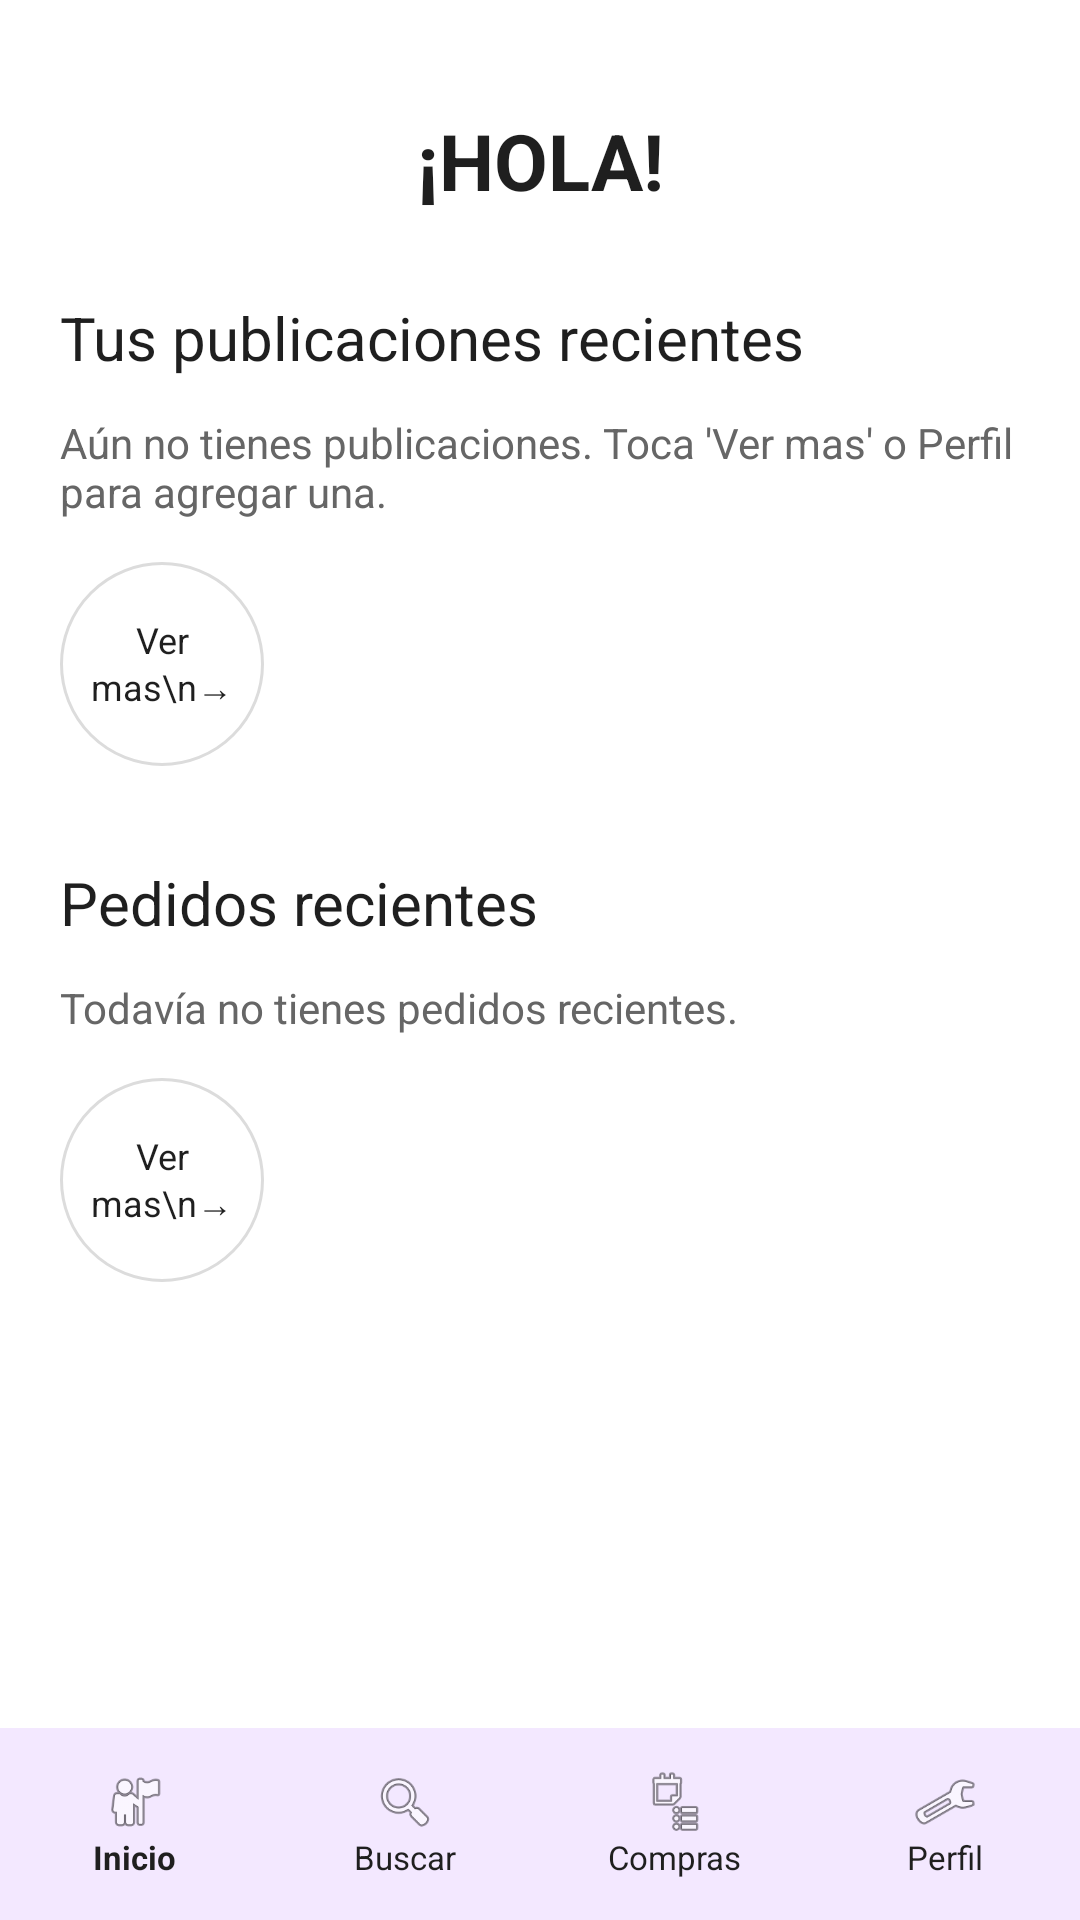

Named icons in this screenshot (1080 x 1920) and their bounding boxes, (x1,y1,x2,y2):
agenda: (652,1772,699,1831)
manage: (915,1779,975,1825)
myplaces: (111,1777,161,1827)
